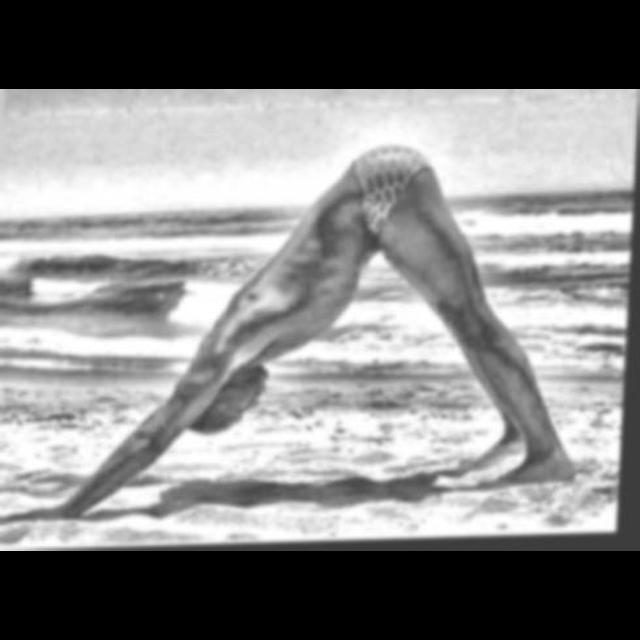Downward-Facing_Dog: (6, 139, 585, 527)
